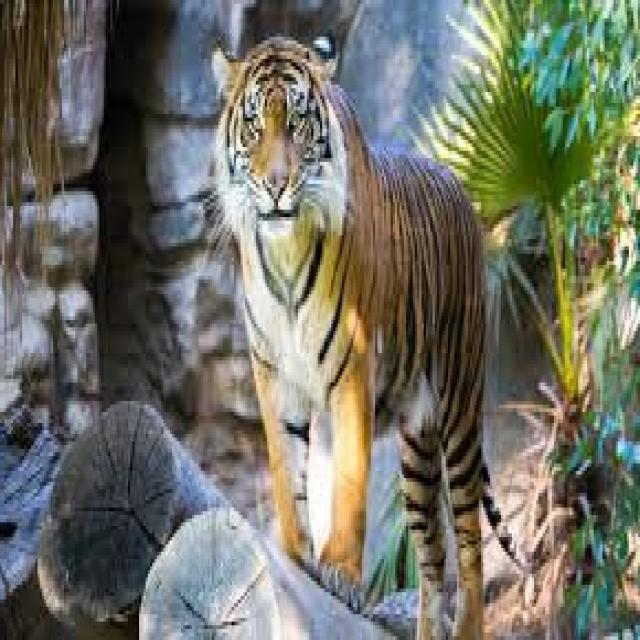tiger: (214, 37, 532, 636)
